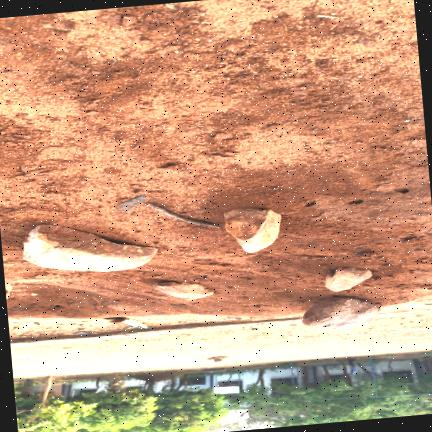Rocks: (22, 224, 156, 271), (301, 296, 379, 329), (224, 207, 280, 251), (324, 267, 371, 291), (153, 281, 213, 299), (120, 14, 136, 24), (213, 132, 232, 140), (5, 283, 10, 297), (5, 283, 11, 291)
